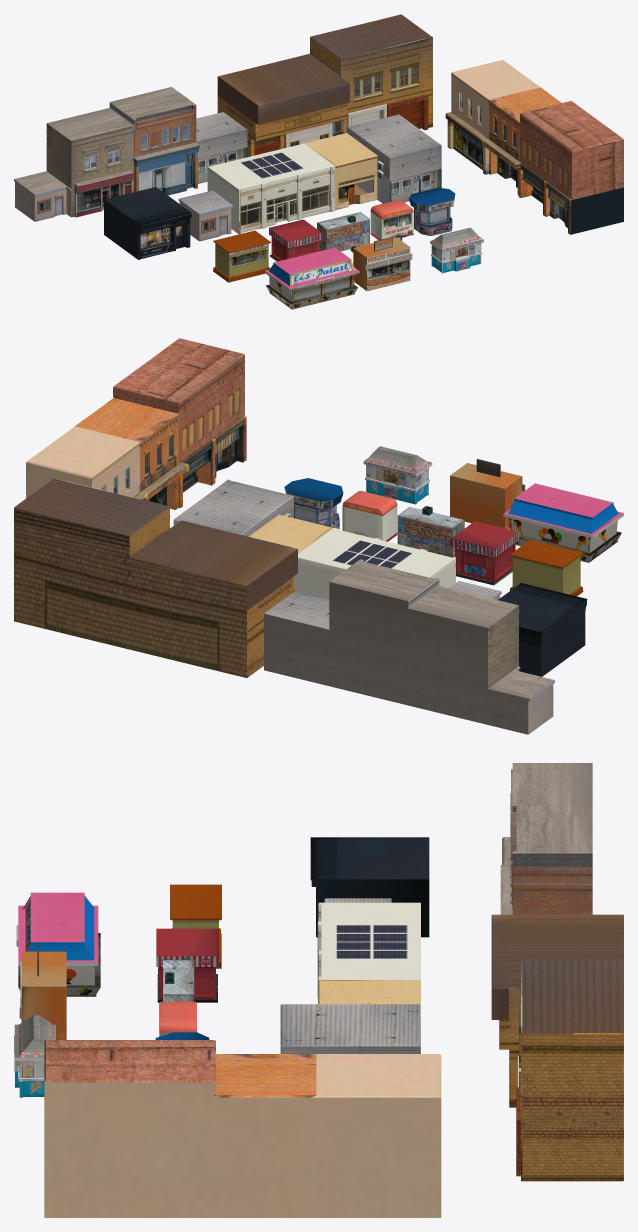
Rendered from buildings.glb.
3 views of the same model, one above another, from view 1: azimuth 30°, elevation 25°; view 2: azimuth 150°, elevation 25°; view 3: azimuth 270°, elevation 25° (orthographic). The views are drawn at different scales.
Parts seen in each view (by area): view 1: Block - Garage_13, Block - Red Bricks, Orange, Peach_12, Block - Red brick + Beige Brick + Zinc Block + Self Con_15, Block - White + Amber_11, Block - Zinc Building_14, Block -Coffee Shack_10, Stall - El Palast_4, Stall - Potato Pancakes_1, Stall - Ice Cream Kellys_3, Block - Self Con_16, Stall - Ice Cream Old Bathing Station_2, Stall - Ice Cream Funland_5 (+3 smaller); view 2: Block - Garage_13, Block - Red brick + Beige Brick + Zinc Block + Self Con_15, Block - Red Bricks, Orange, Peach_12, Block - White + Amber_11, Stall - El Palast_4, Block -Coffee Shack_10, Block - Zinc Building_14, Stall - Potato Pancakes_1, Caravan - Ice Cream - Red_9, Stall - Ice Cream Kellys_3, Stall - Ice Cream Old Bathing Station_2, Truck - Food Truck_8 (+2 smaller); view 3: Block - Red Bricks, Orange, Peach_12, Block - Garage_13, Block - Red brick + Beige Brick + Zinc Block + Self Con_15, Block - White + Amber_11, Block -Coffee Shack_10, Block - Zinc Building_14, Stall - El Palast_4, Stall - Potato Pancakes_1, Caravan - Ice Cream - Red_9, Stall - Ice Cream Old Bathing Station_2, Stall - Ice Cream Kellys_3, Truck - Food Truck_8 (+1 smaller).
Boxes of the visible parts, <box> form: Block - Garage_13: <box>217,14,432,156</box>; Block - Red Bricks, Orange, Peach_12: <box>445,60,623,234</box>; Block - Red brick + Beige Brick + Zinc Block + Self Con_15: <box>14,87,247,221</box>; Block - White + Amber_11: <box>207,133,377,234</box>; Block - Zinc Building_14: <box>347,114,441,203</box>; Block -Coffee Shack_10: <box>104,187,191,259</box>; Stall - El Palast_4: <box>264,247,359,309</box>; Stall - Potato Pancakes_1: <box>353,237,412,291</box>; Stall - Ice Cream Kellys_3: <box>213,230,270,282</box>; Block - Self Con_16: <box>178,190,232,241</box>; Stall - Ice Cream Old Bathing Station_2: <box>430,227,483,273</box>; Stall - Ice Cream Funland_5: <box>408,187,455,235</box>; Block - Garage_13: <box>14,478,297,677</box>; Block - Red brick + Beige Brick + Zinc Block + Self Con_15: <box>264,559,554,734</box>; Block - Red Bricks, Orange, Peach_12: <box>26,338,246,509</box>; Block - White + Amber_11: <box>249,514,455,599</box>; Stall - El Palast_4: <box>503,483,623,562</box>; Block -Coffee Shack_10: <box>498,583,587,676</box>; Block - Zinc Building_14: <box>173,479,293,536</box>; Stall - Potato Pancakes_1: <box>450,459,525,528</box>; Caravan - Ice Cream - Red_9: <box>450,521,518,585</box>; Stall - Ice Cream Kellys_3: <box>510,540,583,596</box>; Stall - Ice Cream Old Bathing Station_2: <box>363,446,432,504</box>; Truck - Food Truck_8: <box>397,506,464,557</box>; Block - Red Bricks, Orange, Peach_12: <box>44,1040,441,1217</box>; Block - Garage_13: <box>491,914,623,1181</box>; Block - Red brick + Beige Brick + Zinc Block + Self Con_15: <box>500,763,592,914</box>; Block - White + Amber_11: <box>317,902,420,1053</box>; Block -Coffee Shack_10: <box>310,837,429,937</box>; Block - Zinc Building_14: <box>280,1004,420,1053</box>; Stall - El Palast_4: <box>16,892,100,996</box>; Stall - Potato Pancakes_1: <box>19,945,66,1039</box>; Caravan - Ice Cream - Red_9: <box>156,928,218,1002</box>; Stall - Ice Cream Old Bathing Station_2: <box>14,1015,55,1097</box>; Stall - Ice Cream Kellys_3: <box>170,884,221,968</box>; Truck - Food Truck_8: <box>163,960,194,1001</box>.
Bounding box in the file's own units: 48.12 × 9.51 × 34.9.
20 materials, 20 textured.
